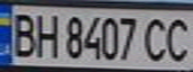0: (100, 14, 121, 61)
4: (81, 12, 103, 61)
7: (118, 14, 142, 62)
8: (60, 12, 84, 61)
B: (6, 9, 39, 58)
C: (139, 15, 172, 63), (163, 13, 193, 64)
H: (30, 10, 60, 58)
